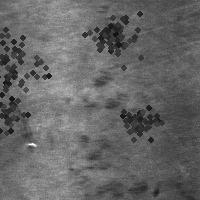rolled-in_scale: (70, 68, 159, 198), (0, 4, 60, 114), (74, 0, 142, 68), (110, 91, 164, 145), (0, 81, 40, 151), (94, 4, 115, 31)
